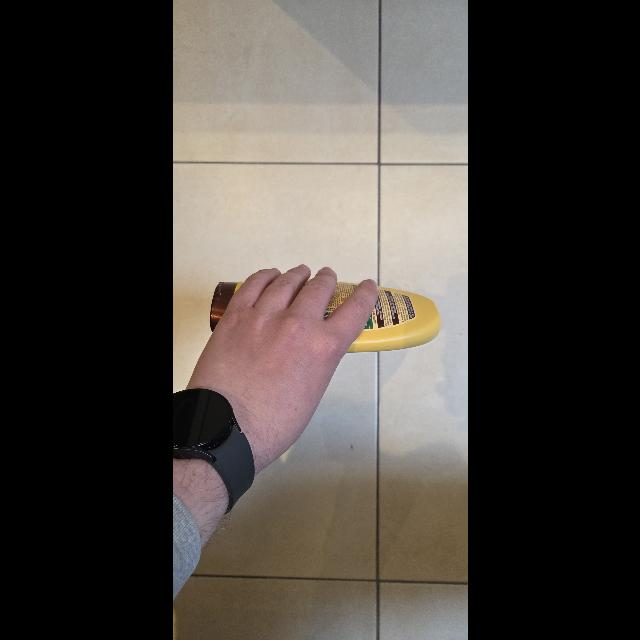Plastic: (205, 280, 442, 354)
